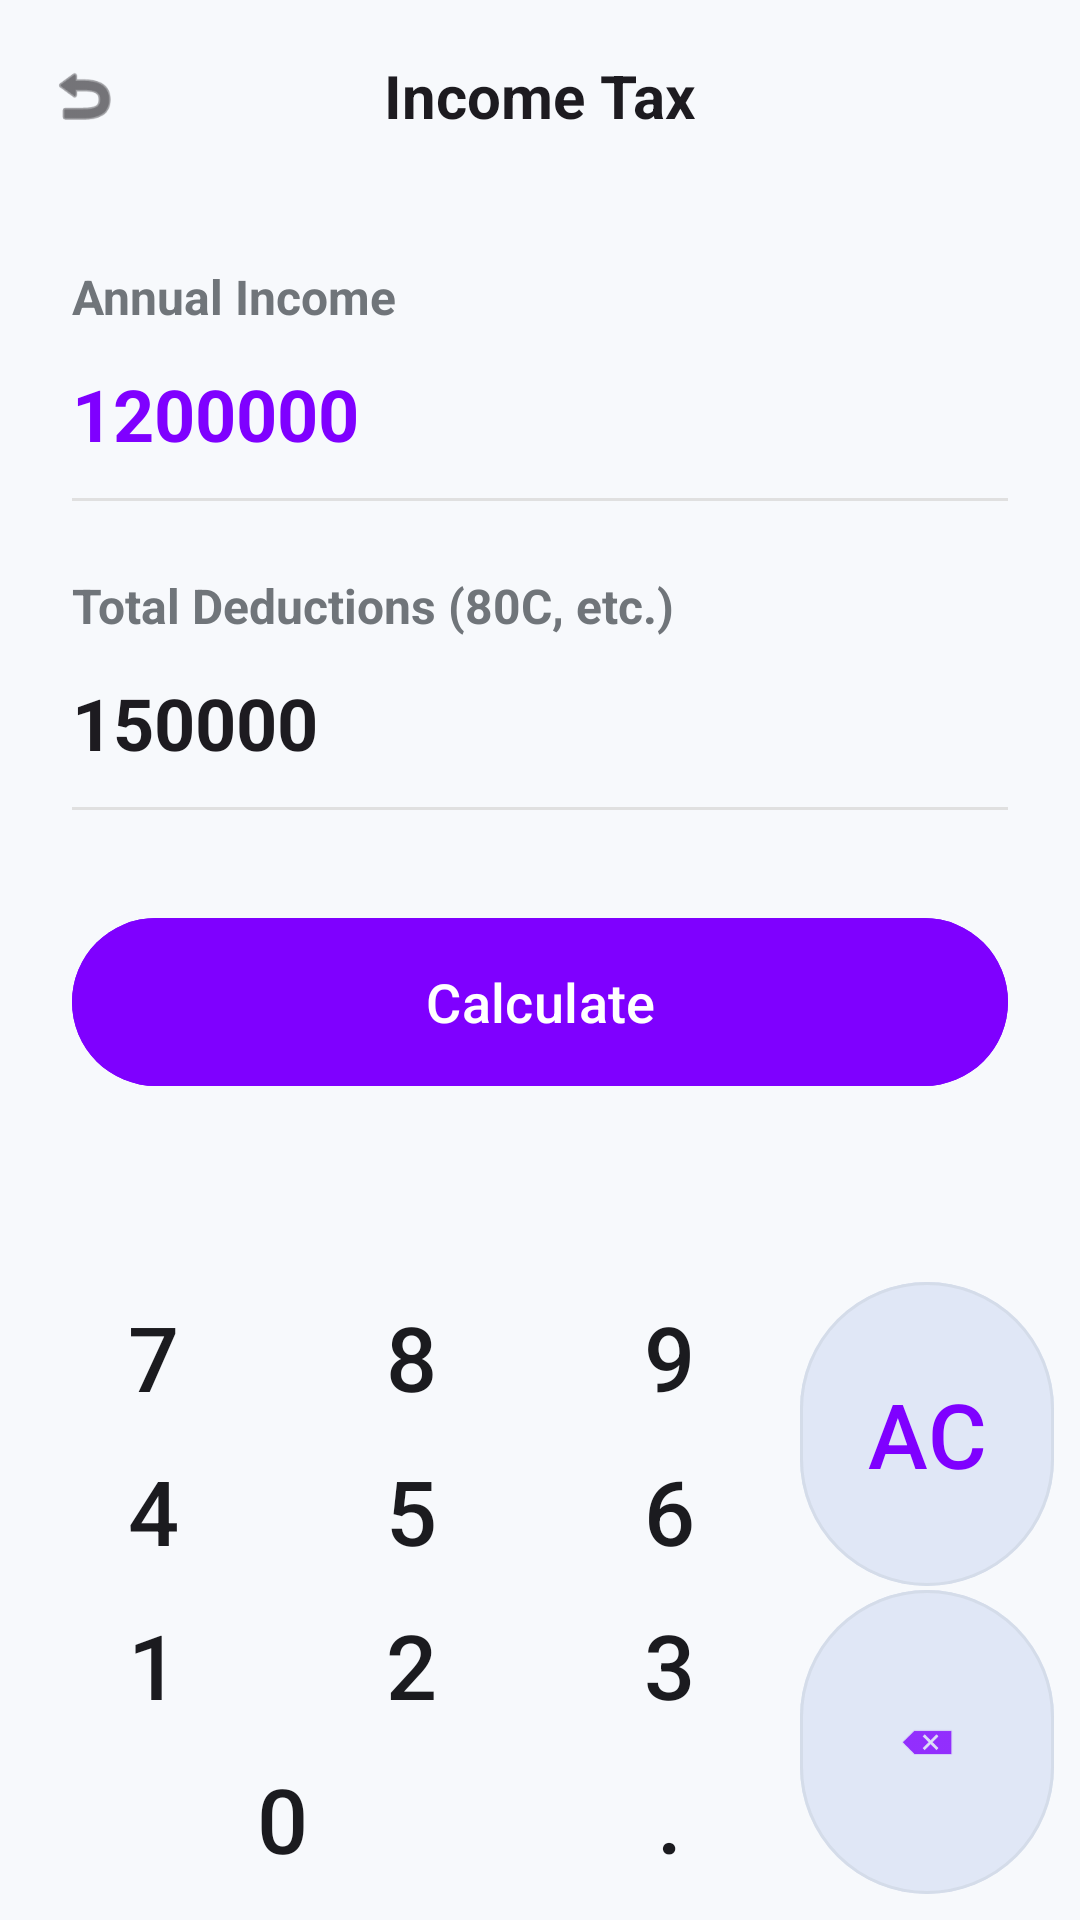

Locate icon controls on the screen. Image size 1080w x 1920h, boxes as BBox(x1, y1, x2, y2).
delete: BBox(800, 1590, 1054, 1894)
revert: BBox(59, 73, 111, 120)
